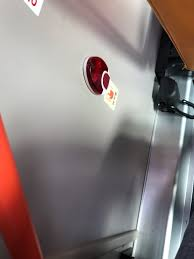bell: (81, 52, 112, 97)
